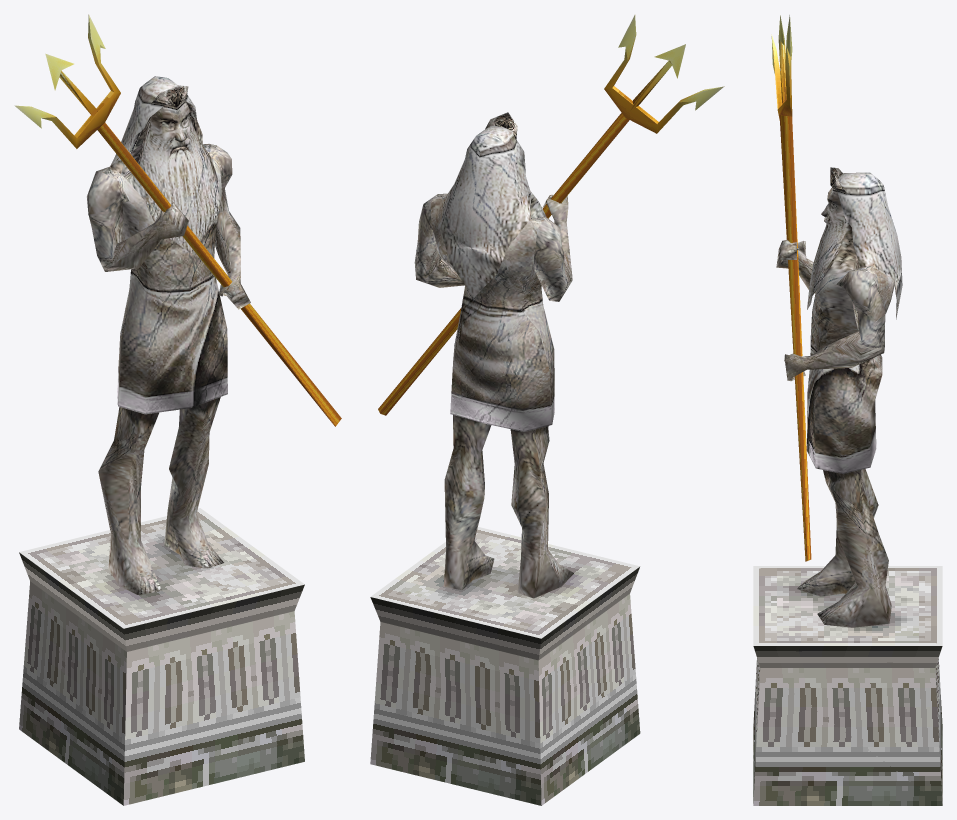
Rendered from idle.glb.
3 renders of one model, left to right at view 1: azimuth 30°, elevation 25°; view 2: azimuth 150°, elevation 25°; view 3: azimuth 270°, elevation 25°, orthographic. The views are drawn at different scales.
Visible parts, largest first — view 1: MeshRoot; view 2: MeshRoot; view 3: MeshRoot.
Boxes of the visible parts, <box> form: MeshRoot: <box>14,14,341,805</box>; MeshRoot: <box>370,15,724,805</box>; MeshRoot: <box>753,15,942,805</box>.
Size of the model in its own units: 5.73 by 12.31 by 2.99.
3 materials, 3 textured.
